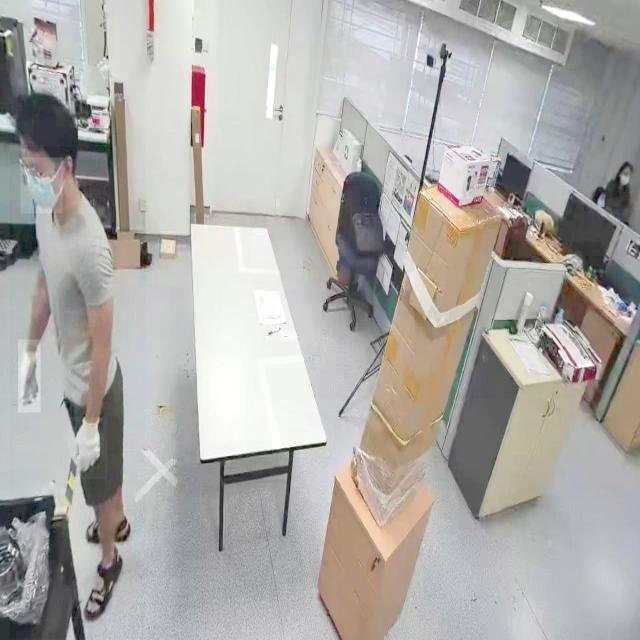face_mask: (21, 158, 62, 214)
hand_glove: (68, 417, 108, 480), (18, 339, 41, 414)
head_nohelmet: (16, 90, 78, 148)
person: (10, 85, 146, 639)
